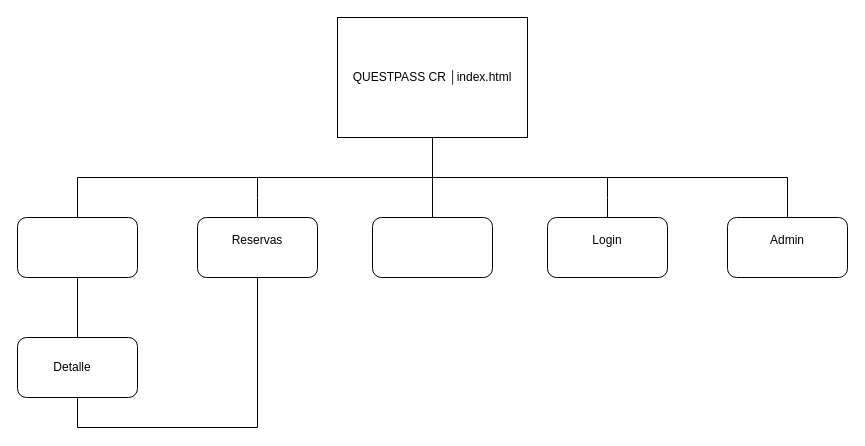
The diagram is 865 pixels wide and 446 high, and some of its shapes have lost their labels. The centre of each missing label's shape, as x and y in pixels:
Contacto: point (432, 247)
Experiencias: point (77, 247)
